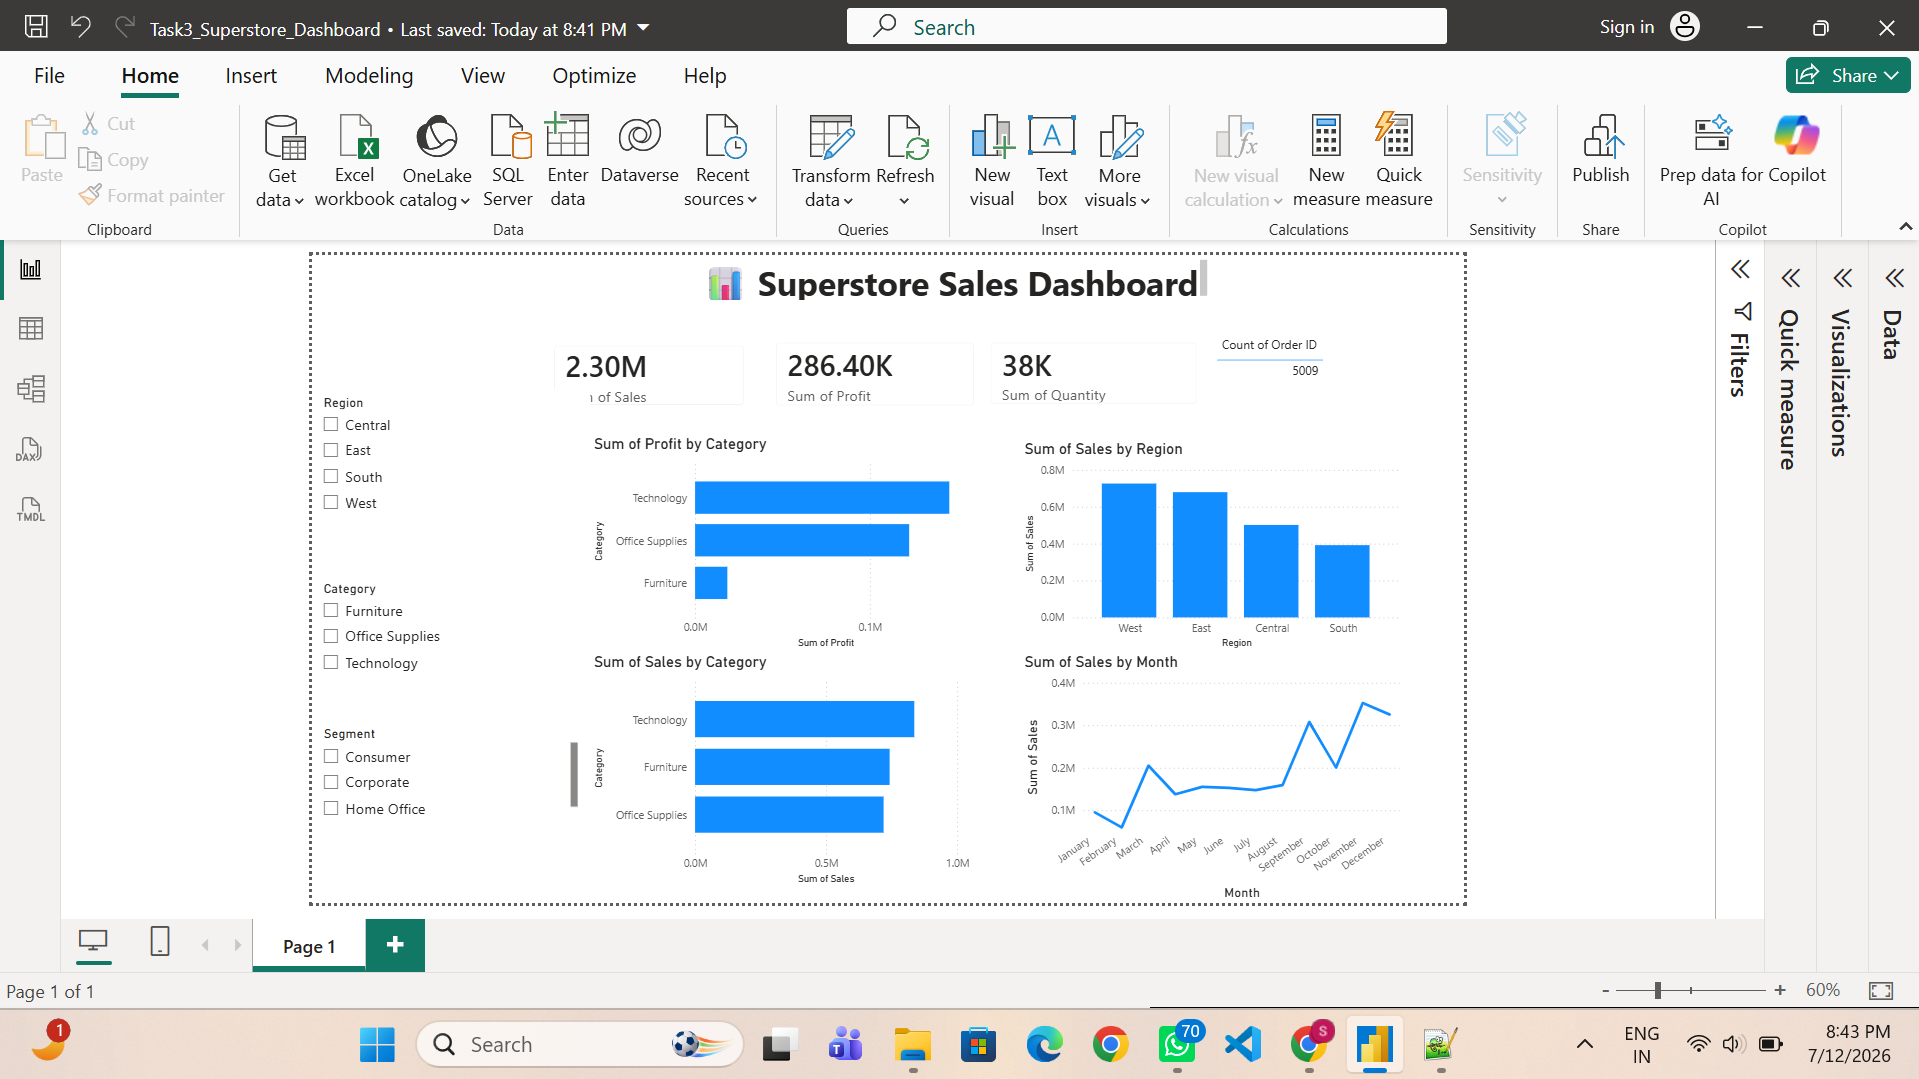

The dashboard page shown, as its layout file describes it:
{"tool":"powerbi","page":{"name":"Page 1","canvas":[1280,720],"ordinal":0},"visuals":[{"type":"cardVisual","fields":{"Data":["Sum(Sample - Superstore.Sales)"]},"box":[252.3,84.1,245.5,100],"z":0},{"type":"cardVisual","fields":{"Data":["Sum(Sample - Superstore.Profit)"]},"box":[497.7,79.5,254.5,104.5],"z":1000},{"type":"cardVisual","fields":{"Data":["Sum(Sample - Superstore.Quantity)"]},"box":[736.4,79.5,263.6,102.3],"z":2000},{"type":"tableEx","fields":{"Values":["Sample - Superstore.Order ID"]},"box":[1000,84.1,263.6,88.6],"z":3000},{"type":"clusteredColumnChart","fields":{"Category":["Sample - Superstore.Region"],"Y":["Sum(Sample - Superstore.Sales)"]},"box":[786.4,204.5,427.3,236.4],"z":4000},{"type":"clusteredBarChart","fields":{"Category":["Sample - Superstore.Category"],"Y":["Sum(Sample - Superstore.Sales)"]},"box":[309.1,440.9,427.3,261.4],"z":5000},{"type":"clusteredBarChart","fields":{"Category":["Sample - Superstore.Category"],"Y":["Sum(Sample - Superstore.Profit)"]},"box":[309.1,200,427.3,240.9],"z":6000},{"type":"lineChart","fields":{"Category":["Sample - Superstore.Order Date.Variation.Date Hierarchy.Month"],"Y":["Sum(Sample - Superstore.Sales)"]},"box":[786.4,440.9,427.3,279.5],"z":7000},{"type":"textbox","box":[427.3,0,572.7,54.5],"z":8000},{"type":"slicer","fields":{"Values":["Sample - Superstore.Region"]},"box":[0,150,309.1,145.5],"z":9000},{"type":"slicer","fields":{"Values":["Sample - Superstore.Category"]},"box":[0,356.8,300,120.5],"z":10000},{"type":"slicer","fields":{"Values":["Sample - Superstore.Segment"]},"box":[0,518.2,300,111.4],"z":11000}]}

Visuals, with their boxes on the page's 1280x720 design canvas (x1, y1, x2, y2). These are canvas units, not pixel positions in the 1919x1079 screenshot, which may show the page scaled, cropped or inside an application window:
cardVisual - Sum(Sample - Superstore.Sales): 252, 84, 498, 184
cardVisual - Sum(Sample - Superstore.Profit): 498, 80, 752, 184
cardVisual - Sum(Sample - Superstore.Quantity): 736, 80, 1000, 182
tableEx - Sample - Superstore.Order ID: 1000, 84, 1264, 173
clusteredColumnChart - Sample - Superstore.Region x Sum(Sample - Superstore.Sales): 786, 204, 1214, 441
clusteredBarChart - Sample - Superstore.Category x Sum(Sample - Superstore.Sales): 309, 441, 736, 702
clusteredBarChart - Sample - Superstore.Category x Sum(Sample - Superstore.Profit): 309, 200, 736, 441
lineChart - Sample - Superstore.Order Date.Variation.Date Hierarchy.Month x Sum(Sample - Superstore.Sales): 786, 441, 1214, 720
textbox: 427, 0, 1000, 54
slicer - Sample - Superstore.Region: 0, 150, 309, 296
slicer - Sample - Superstore.Category: 0, 357, 300, 477
slicer - Sample - Superstore.Segment: 0, 518, 300, 630
